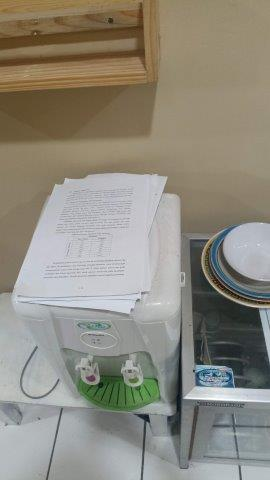kertas: (15, 175, 168, 317)
